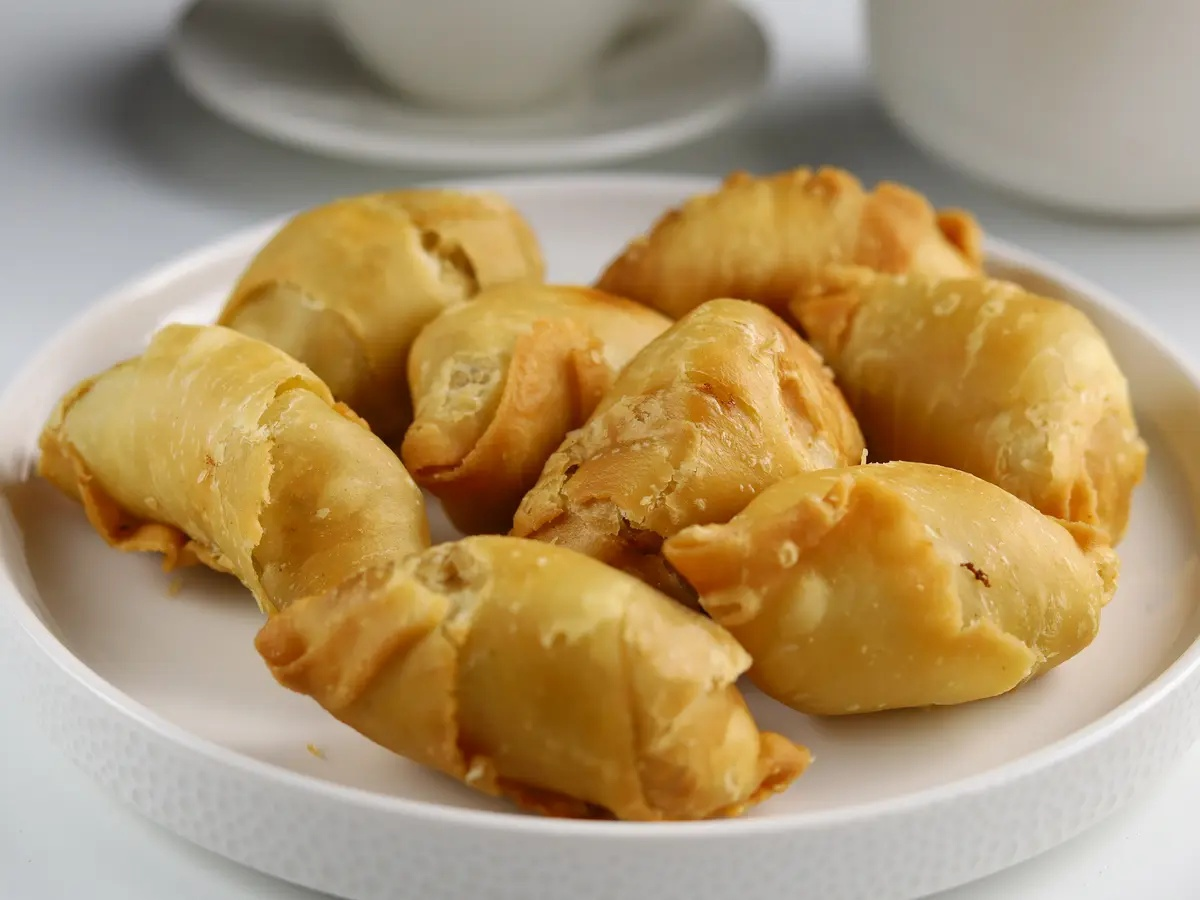pisang_molen: (254, 536, 771, 833), (35, 322, 428, 604), (669, 460, 1099, 712)
